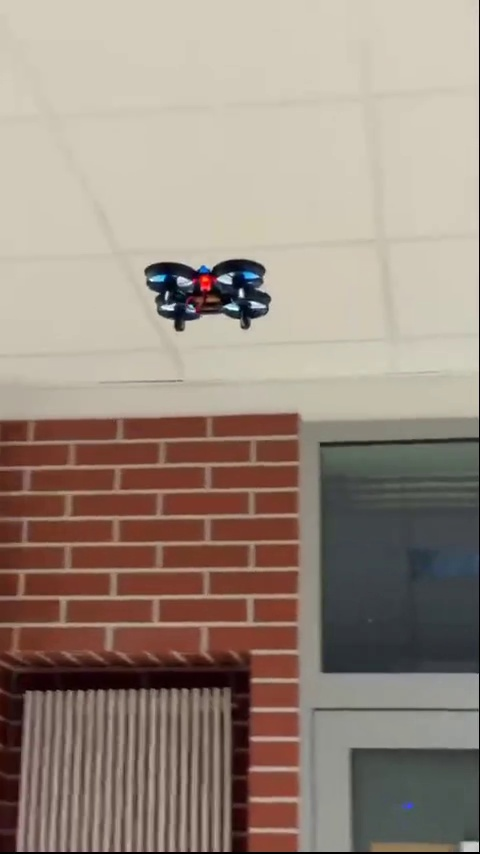drone: (141, 257, 275, 329)
